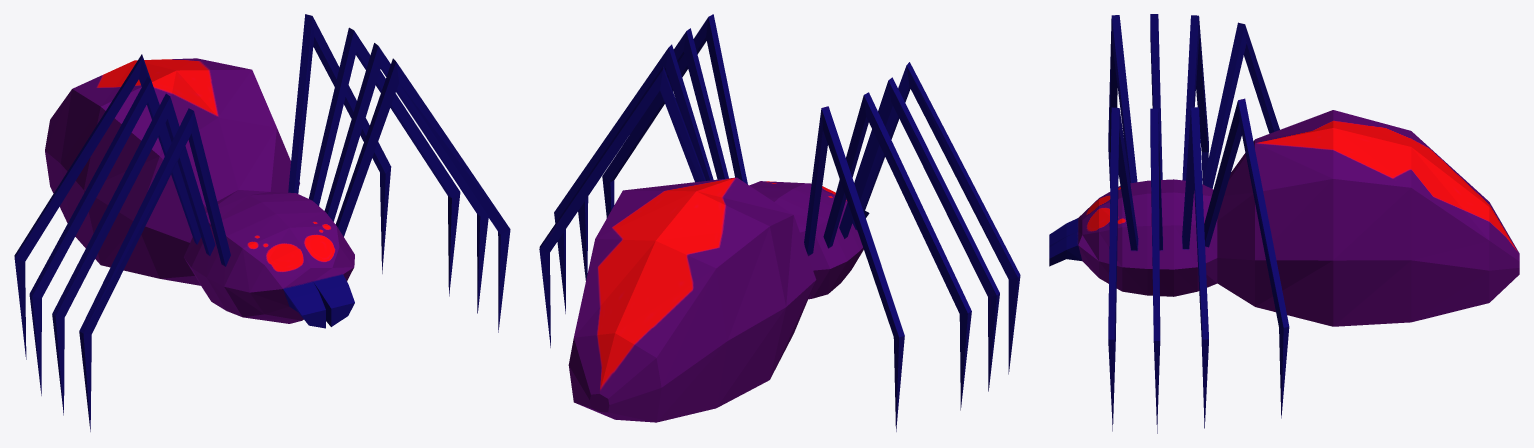
The model's file is Spider.fbx.
The picture shows the model from 3 angles, left to right: view 1: azimuth 30°, elevation 25°; view 2: azimuth 150°, elevation 25°; view 3: azimuth 270°, elevation 25°; orthographic projection. The views are drawn at different scales.
Parts seen in each view (by area): view 1: Spider_Complete; view 2: Spider_Complete; view 3: Spider_Complete.
Boxes of the visible parts, x1,y1,x2,y2 form: Spider_Complete: [14, 14, 510, 431]; Spider_Complete: [539, 14, 1020, 431]; Spider_Complete: [1049, 14, 1519, 433].
Size of the model in its own units: 95.76 by 96.27 by 62.92.
